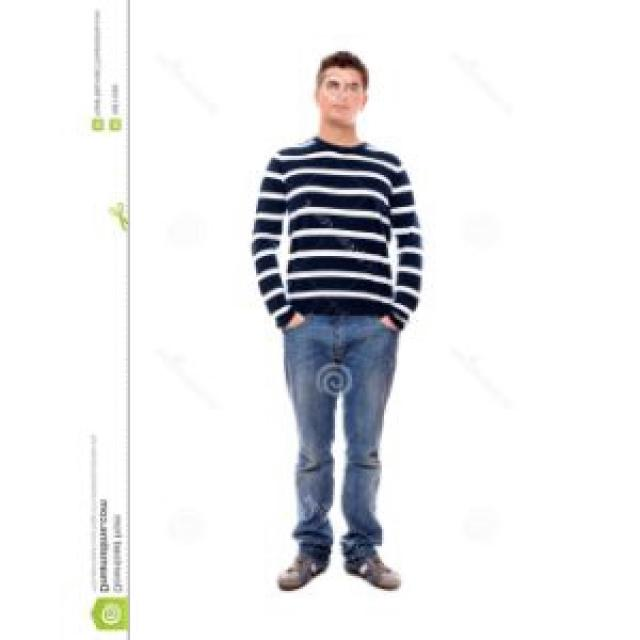adult: (235, 28, 446, 597)
